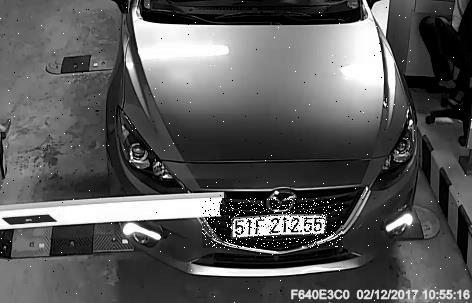License-plate: (204, 199, 345, 249)
